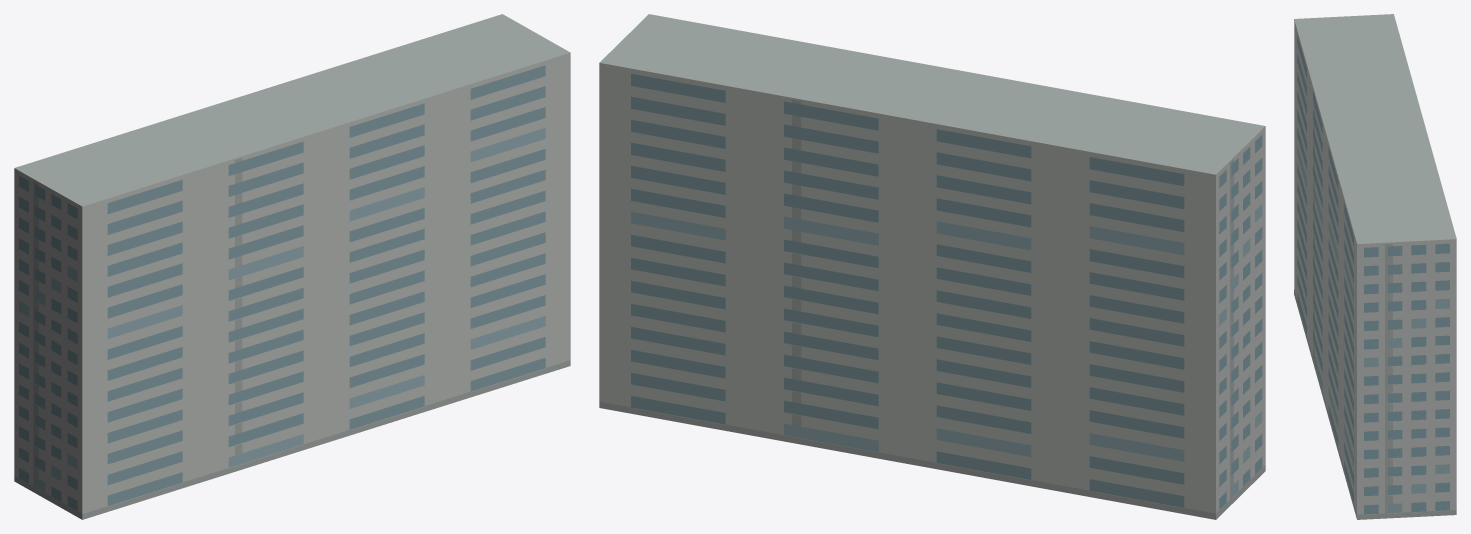
The model's file is residential-ba5377eb-0657-4478-92b9-e11dcdc68249.glb.
The picture shows the model from 3 angles, left to right: view 1: azimuth 30°, elevation 25°; view 2: azimuth 150°, elevation 25°; view 3: azimuth 270°, elevation 25°; orthographic projection. The views are drawn at different scales.
Parts seen in each view (by area): view 1: residential-ba5377eb-0657-4478-92b9-e11dcdc68249.tmp; view 2: residential-ba5377eb-0657-4478-92b9-e11dcdc68249.tmp; view 3: residential-ba5377eb-0657-4478-92b9-e11dcdc68249.tmp.
Part boxes in pixels (bbox=[...]): residential-ba5377eb-0657-4478-92b9-e11dcdc68249.tmp: bbox=[14, 14, 570, 519]; residential-ba5377eb-0657-4478-92b9-e11dcdc68249.tmp: bbox=[599, 14, 1265, 519]; residential-ba5377eb-0657-4478-92b9-e11dcdc68249.tmp: bbox=[1294, 14, 1456, 519].
Bounding box in the file's own units: 81.86 × 45.75 × 24.46.
